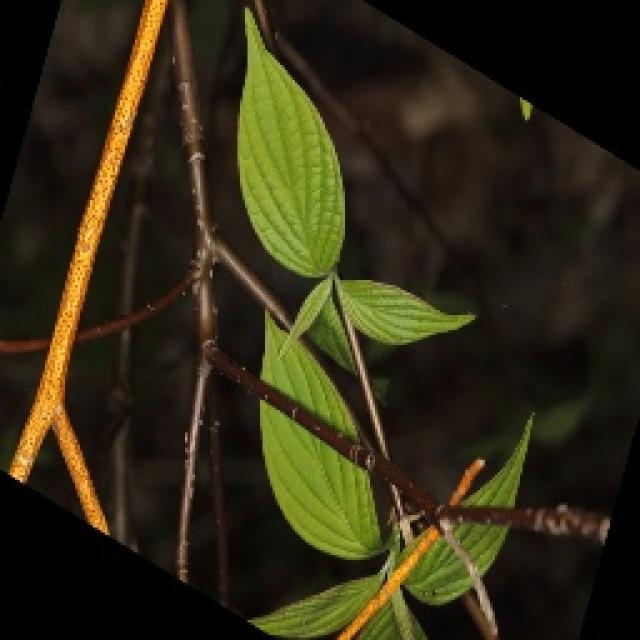Golden_canker: (5, 14, 190, 548), (322, 455, 502, 640)
